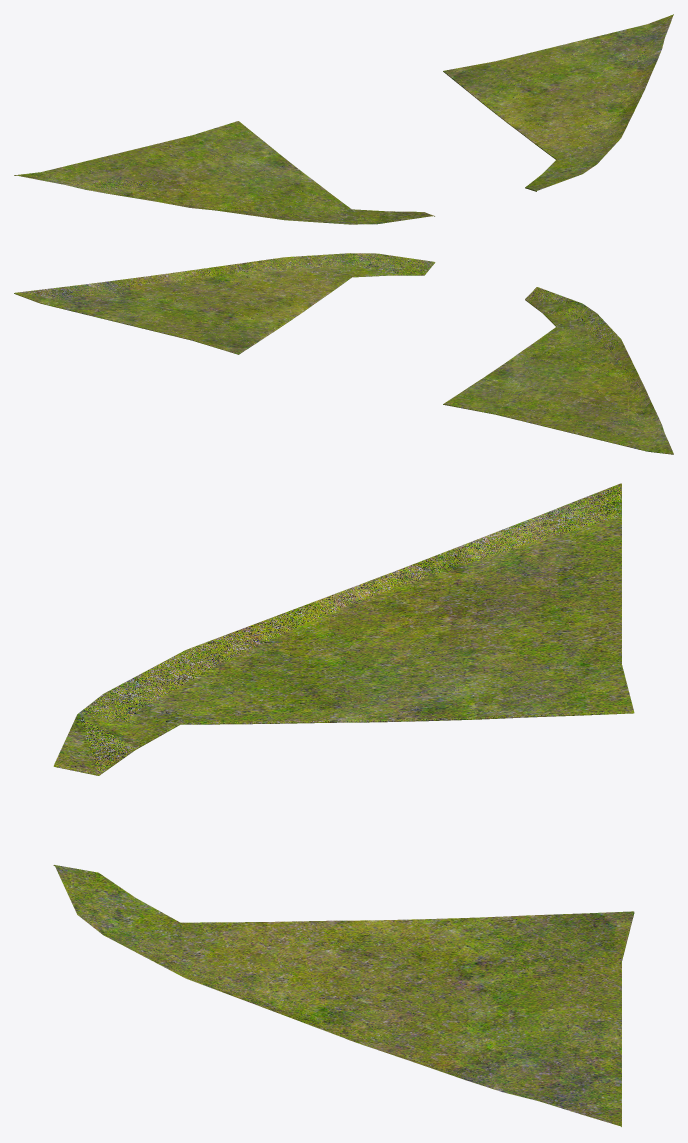
The model's file is SM_GHM_Grass.fbx.
The picture shows the model from 3 angles, top to bottom: view 1: azimuth 30°, elevation 25°; view 2: azimuth 150°, elevation 25°; view 3: azimuth 270°, elevation 25°; orthographic projection. The views are drawn at different scales.
Parts seen in each view (by area): view 1: SM_GHM_Grass; view 2: SM_GHM_Grass; view 3: SM_GHM_Grass.
Part boxes in pixels (bbox=[...]): SM_GHM_Grass: bbox=[14, 14, 673, 224]; SM_GHM_Grass: bbox=[14, 253, 673, 454]; SM_GHM_Grass: bbox=[53, 483, 634, 1126].
Size of the model in its own units: 13922 by 202 by 5306.
